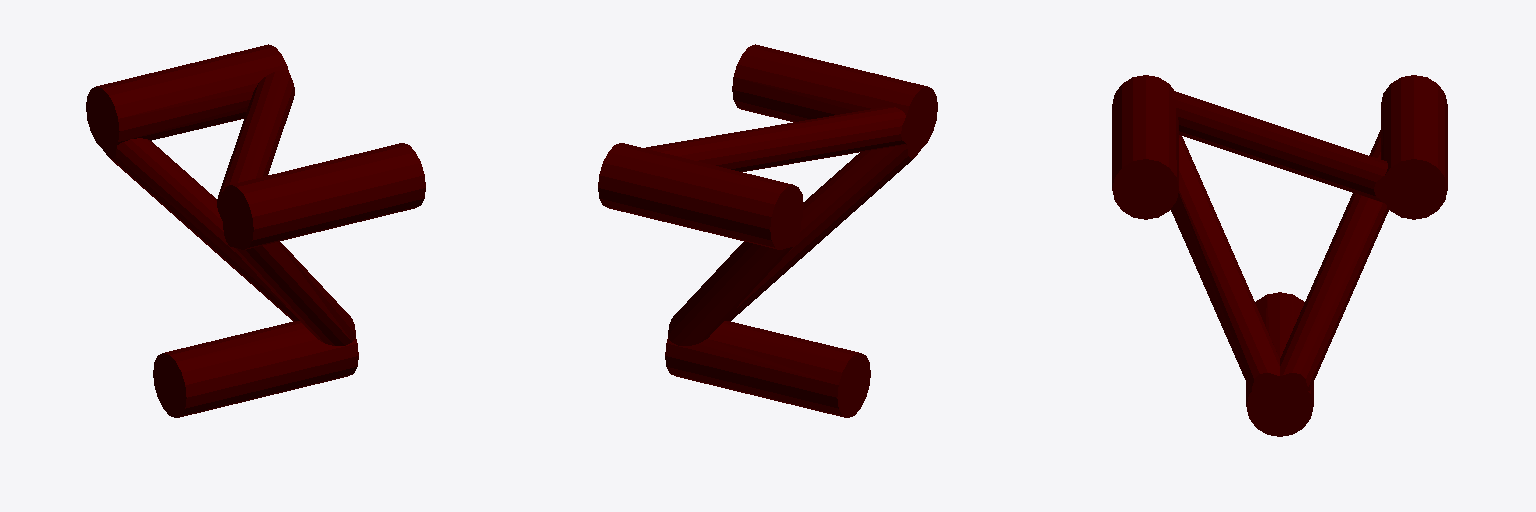
File: track_alt.obj
3 renders of one model, left to right at view 1: azimuth 30°, elevation 25°; view 2: azimuth 150°, elevation 25°; view 3: azimuth 270°, elevation 25°, orthographic.
Bounding box in the file's own units: 0.6848 × 1.06 × 1.16.